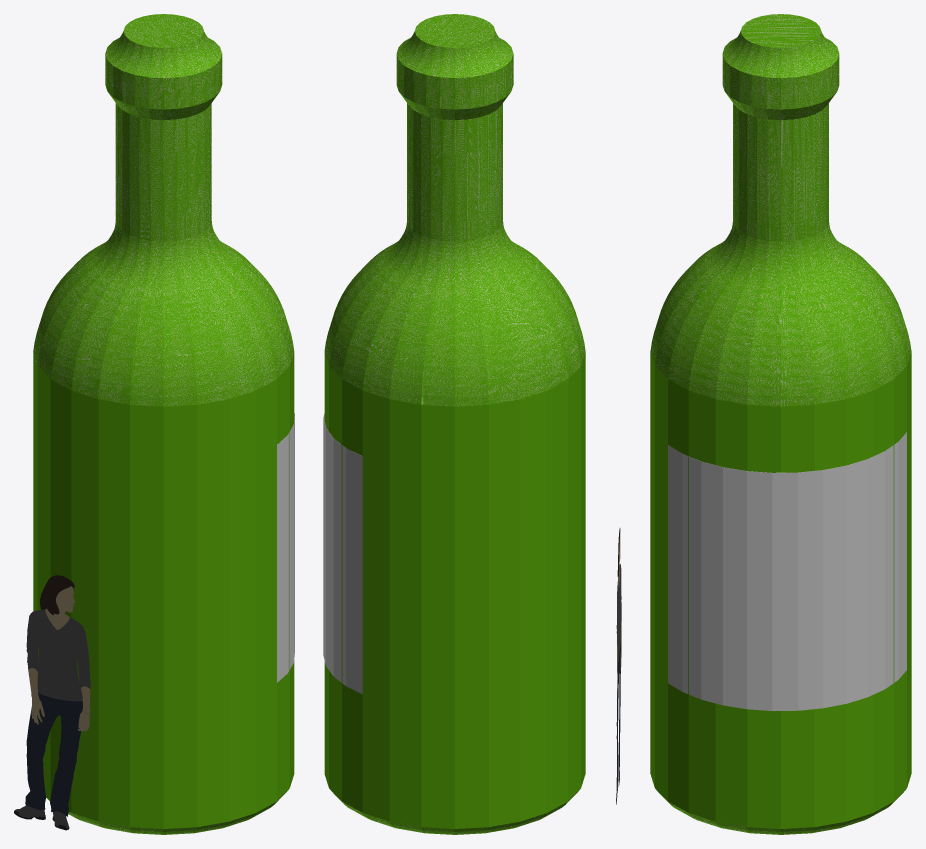
3 views of the same model, side by side, from view 1: azimuth 30°, elevation 25°; view 2: azimuth 150°, elevation 25°; view 3: azimuth 270°, elevation 25° (orthographic).
Visible parts, largest first — view 1: mesh2_mesh2-geometry, mesh1.001_mesh1-geometry; view 2: mesh2_mesh2-geometry, mesh1.001_mesh1-geometry; view 3: mesh2_mesh2-geometry.
Part boxes in pixels (x1,y1,x2,y2): mesh2_mesh2-geometry: (33,14,294,834); mesh1.001_mesh1-geometry: (14,575,90,830); mesh2_mesh2-geometry: (323,14,585,834); mesh1.001_mesh1-geometry: (616,528,621,804); mesh2_mesh2-geometry: (650,14,911,834).
Bounding box in the file's own units: 0.3344 × 0.8996 × 0.2809.
